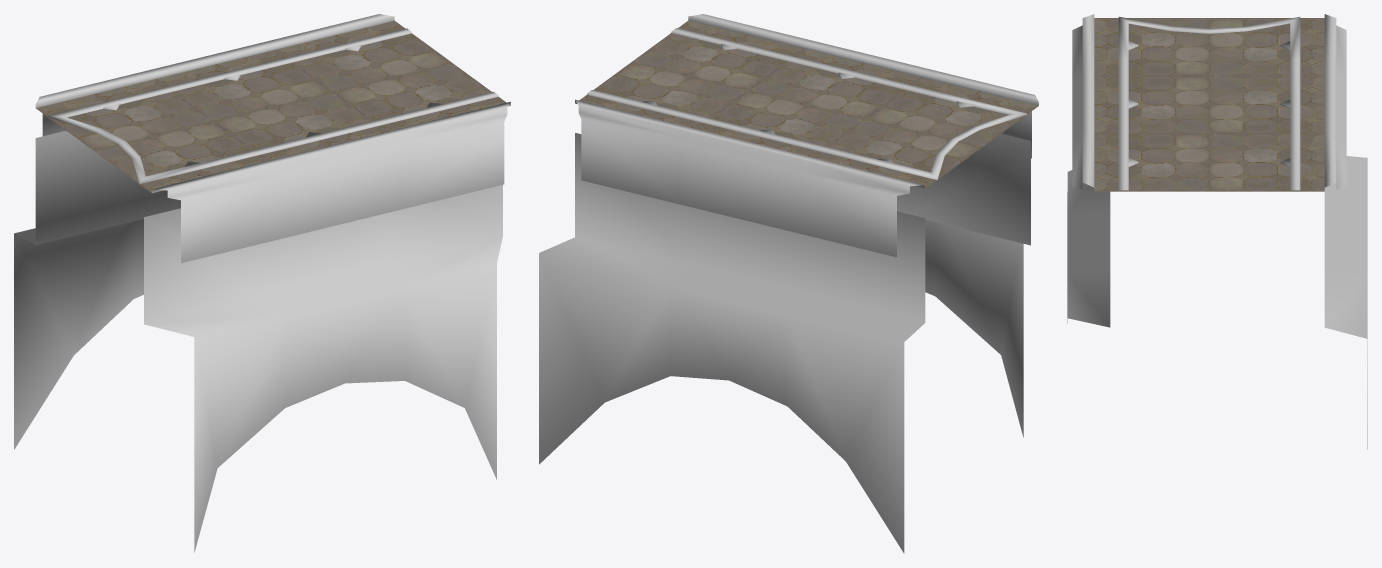
Rendered from t_pngtai02.FBX.
The picture shows the model from 3 angles, left to right: view 1: azimuth 30°, elevation 25°; view 2: azimuth 150°, elevation 25°; view 3: azimuth 270°, elevation 25°; orthographic projection. The views are drawn at different scales.
Parts seen in each view (by area): view 1: t_pngtai02_qiang, t_pngtai02_dimian; view 2: t_pngtai02_qiang, t_pngtai02_dimian; view 3: t_pngtai02_dimian, t_pngtai02_qiang.
Boxes of the visible parts, x1,y1,x2,y2 form: t_pngtai02_qiang: [14, 14, 510, 552]; t_pngtai02_dimian: [36, 20, 506, 192]; t_pngtai02_qiang: [539, 14, 1038, 553]; t_pngtai02_dimian: [579, 20, 1038, 188]; t_pngtai02_dimian: [1094, 18, 1324, 191]; t_pngtai02_qiang: [1067, 14, 1367, 449].
Size of the model in its own units: 1886 by 1747 by 1323.
